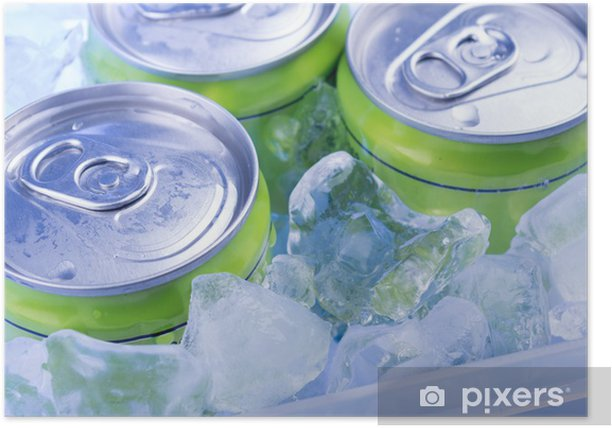can: (1, 80, 284, 354), (336, 1, 588, 253), (86, 1, 351, 120)
